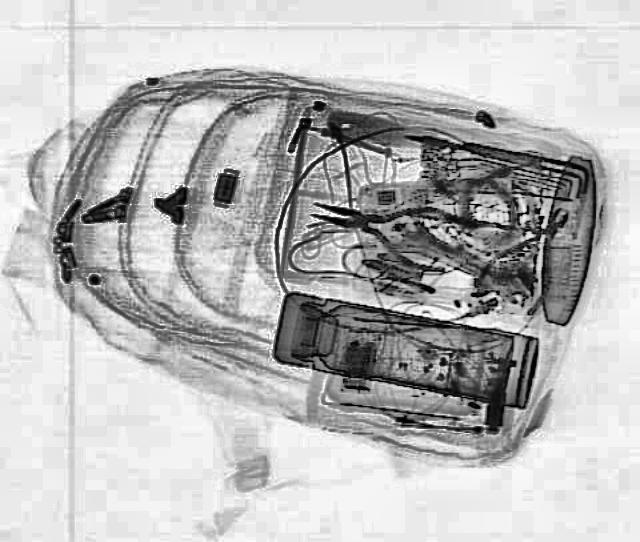Pliers: (295, 177, 469, 276)
